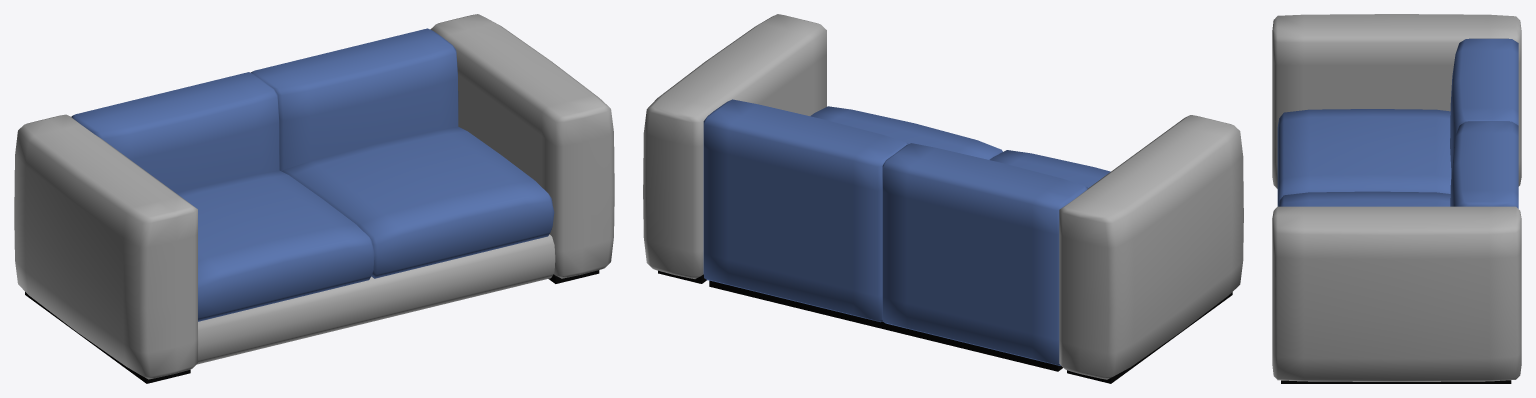
Rendered from meko knba 2_ 18.fbx.
3 renders of one model, left to right at view 1: azimuth 30°, elevation 25°; view 2: azimuth 150°, elevation 25°; view 3: azimuth 270°, elevation 25°, orthographic. The views are drawn at different scales.
Visible parts, largest first — view 1: pasted__seat (×2), pasted__right, pasted__left, pasted__Box055, pasted__Box056, pasted__base, pasted__legs; view 2: pasted__right, pasted__Box055, pasted__Box056, pasted__left, pasted__seat (×2), pasted__legs; view 3: pasted__left, pasted__right, pasted__seat (×2), pasted__Box056, pasted__Box055, pasted__legs.
Part boxes in pixels (x1,y1,x2,y2): pasted__seat (×2): (176,126,554,321); pasted__right: (14,114,197,379); pasted__left: (430,14,614,278); pasted__Box055: (250,28,458,171); pasted__Box056: (71,72,279,193); pasted__base: (197,234,555,364); pasted__legs: (25,270,599,383); pasted__right: (1059,115,1243,379); pasted__Box055: (703,99,908,322); pasted__Box056: (882,143,1087,365); pasted__left: (643,14,826,278); pasted__seat (×2): (810,106,1110,188); pasted__legs: (658,270,1232,383); pasted__left: (1272,206,1521,381); pasted__right: (1272,14,1521,188); pasted__seat (×2): (1277,109,1451,206); pasted__Box056: (1450,38,1518,172); pasted__Box055: (1450,121,1518,208); pasted__legs: (1281,380,1511,383).
Bounding box in the file's own units: 201 × 66.59 × 94.59.
